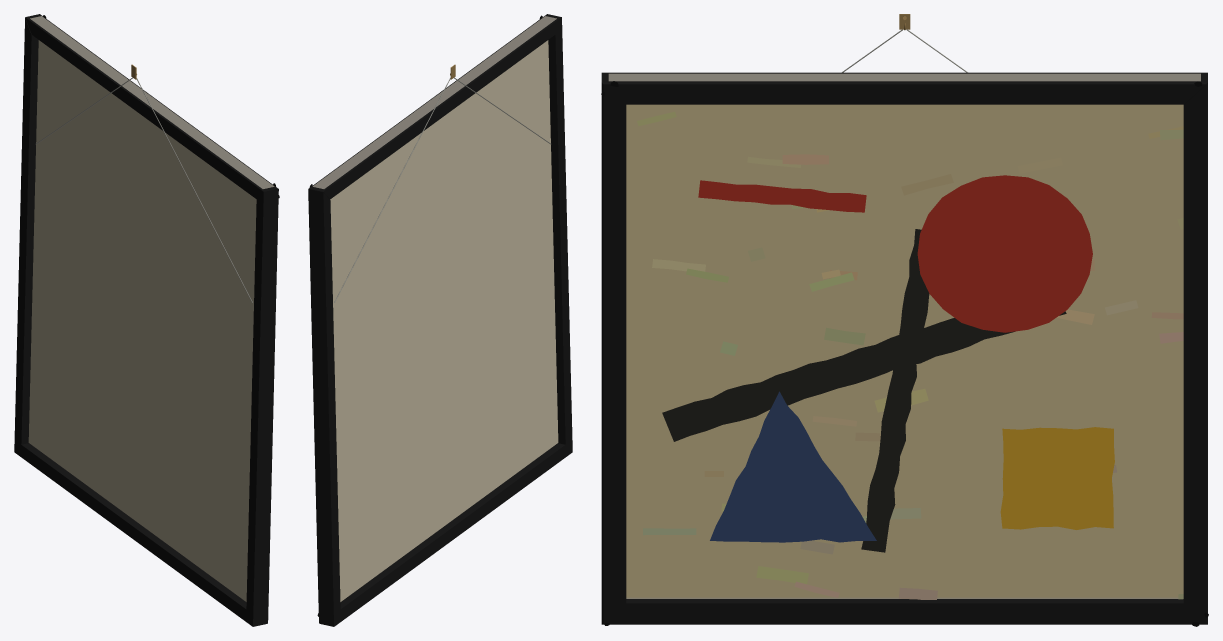
Rendered from painting_d.glb.
The picture shows the model from 3 angles, left to right: view 1: azimuth 30°, elevation 25°; view 2: azimuth 150°, elevation 25°; view 3: azimuth 270°, elevation 25°; orthographic projection. The views are drawn at different scales.
Parts seen in each view (by area): view 1: bild, aufhaengung; view 2: bild, aufhaengung; view 3: bild.
Part boxes in pixels (x1=…): bild: x1=14, y1=14, x2=279, y2=626; aufhaengung: x1=35, y1=64, x2=252, y2=302; bild: x1=308, y1=14, x2=572, y2=626; aufhaengung: x1=334, y1=64, x2=551, y2=302; bild: x1=601, y1=72, x2=1208, y2=626.
Bounding box in the file's own units: 0.0563 × 0.9554 × 0.8724.
